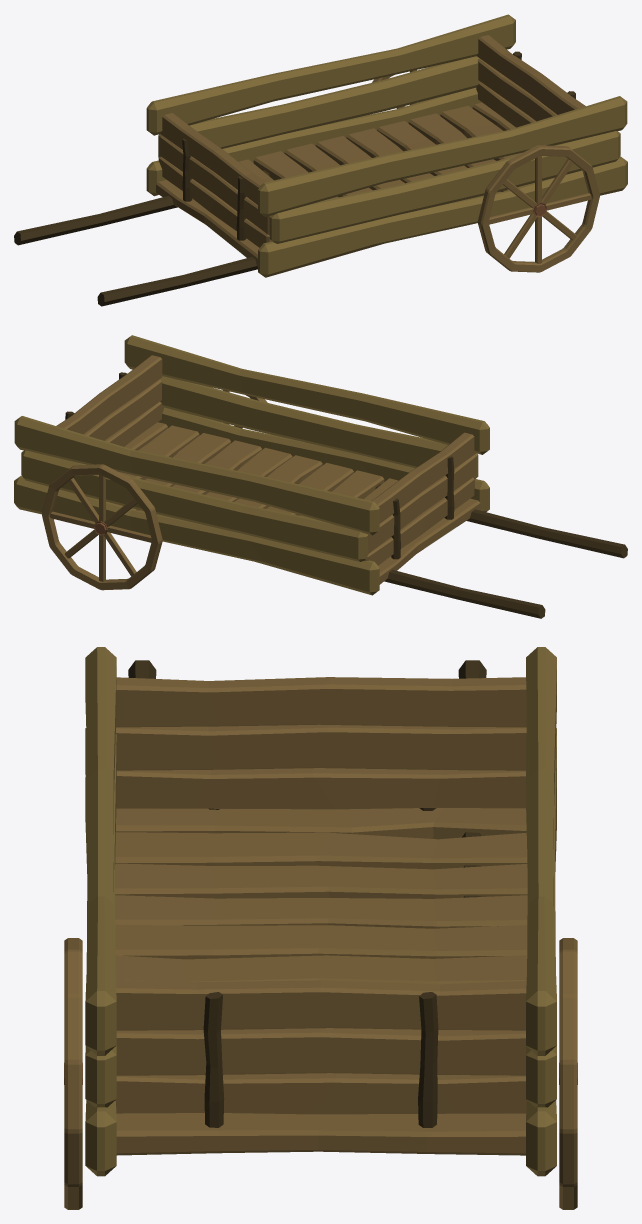
Rendered from car.fbx.
3 views of the same model, one above another, from view 1: azimuth 30°, elevation 25°; view 2: azimuth 150°, elevation 25°; view 3: azimuth 270°, elevation 25° (orthographic). The views are drawn at different scales.
Parts seen in each view (by area): view 1: Car; view 2: Car; view 3: Car.
Part boxes in pixels (x1,y1,x2,y2): Car: (14,14,627,306); Car: (14,335,627,618); Car: (64,647,577,1209).
Size of the model in its own units: 536 by 147 by 233.
